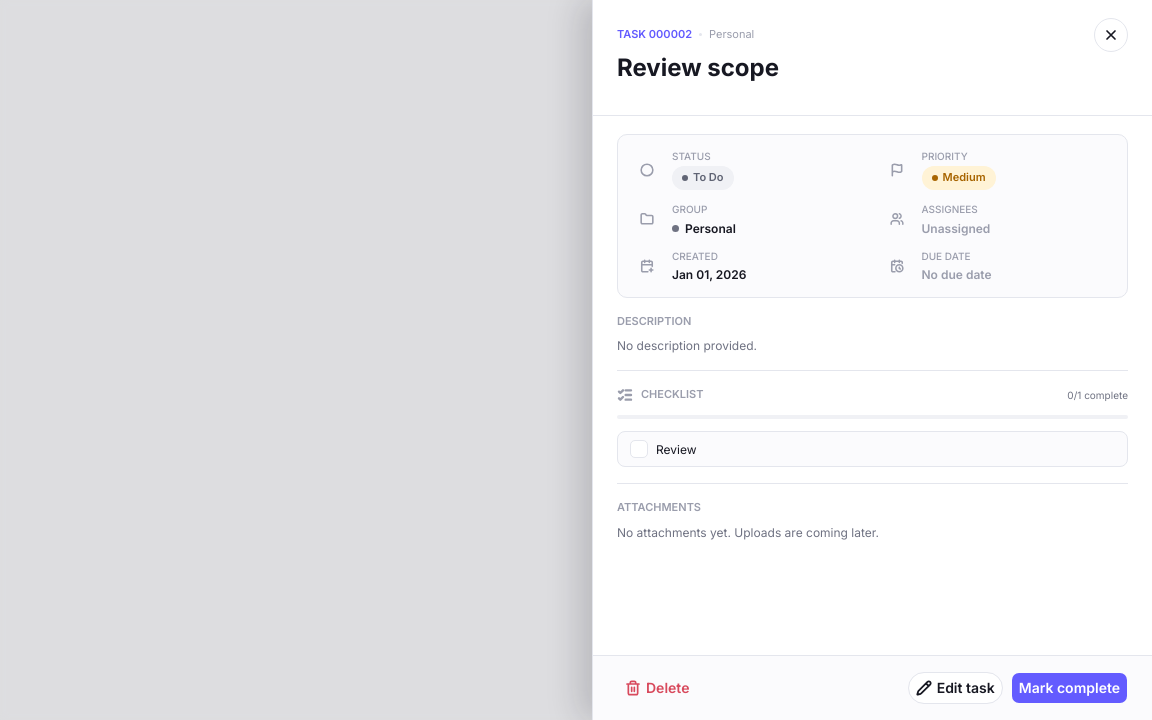
updates a checklist item when its drawer checkbox is clicked
Click the checkbox named "Mark Review complete": (639, 449) [630,440,648,458]
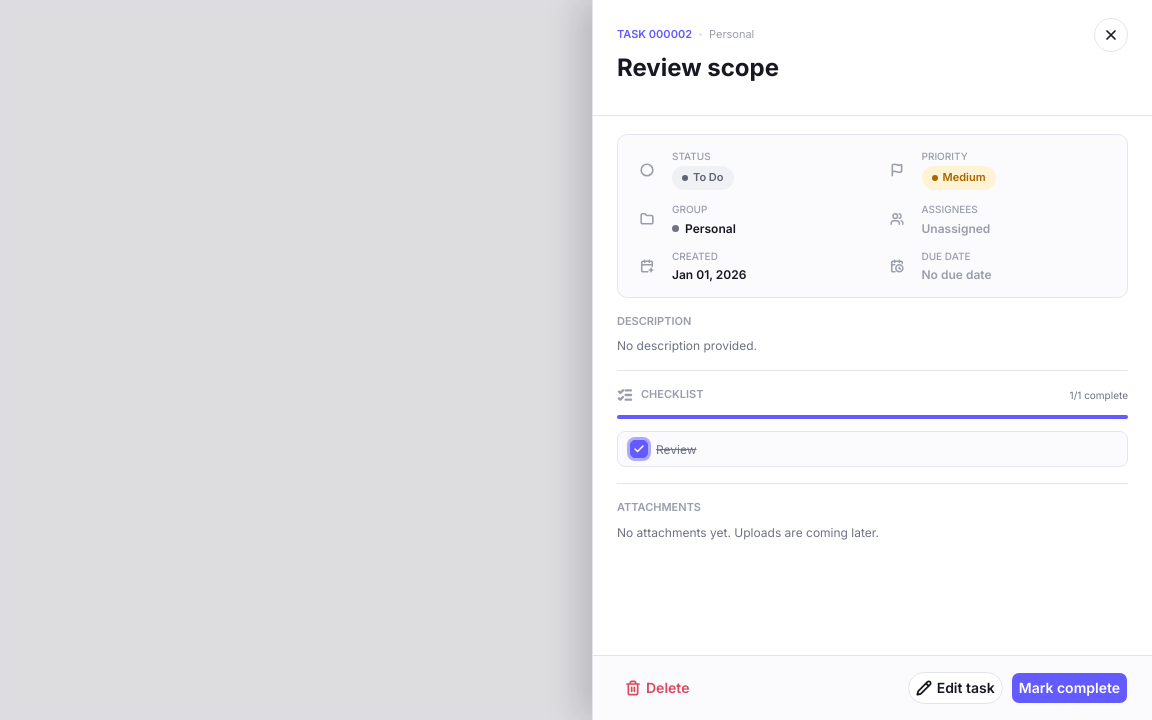
expect the text "1/1 complete" is shown: met, box [1070,388,1128,402]
